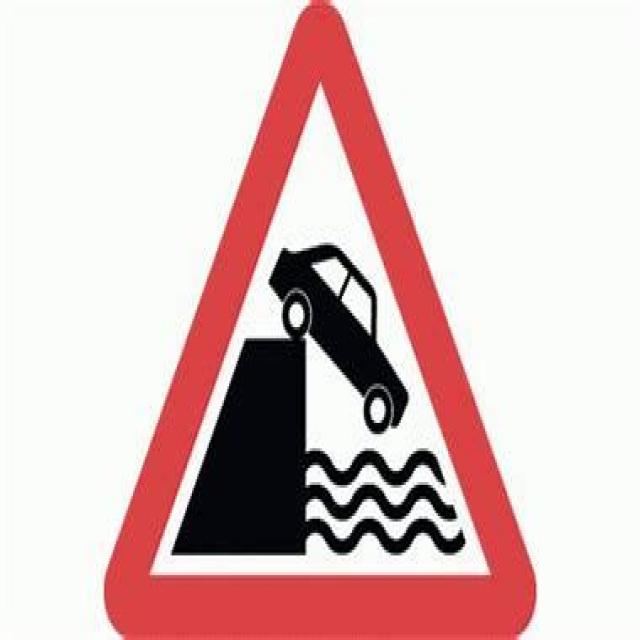QUAY_SIDE_OR_RIVER_BANK: (102, 0, 536, 637)
